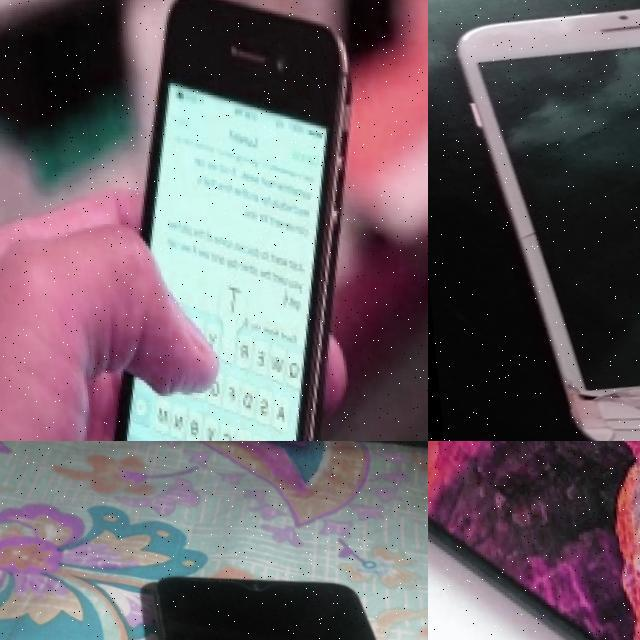screen crack: (530, 337, 640, 441)
